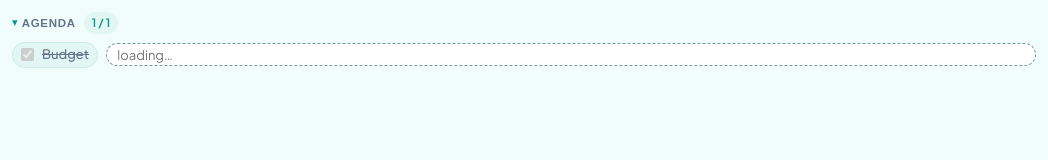
Test: AgendaSection › peek reads "all covered" when every item is ticked
The image size is (1048, 160).
Click the button with test id "agenda-toggle" at {"x": 44, "y": 23}, box [12,16,76,29]
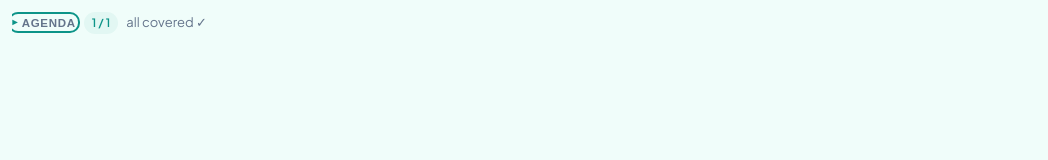
expect the text with test id "agenda-peek" shows "all covered": met, box [126,14,207,30]
